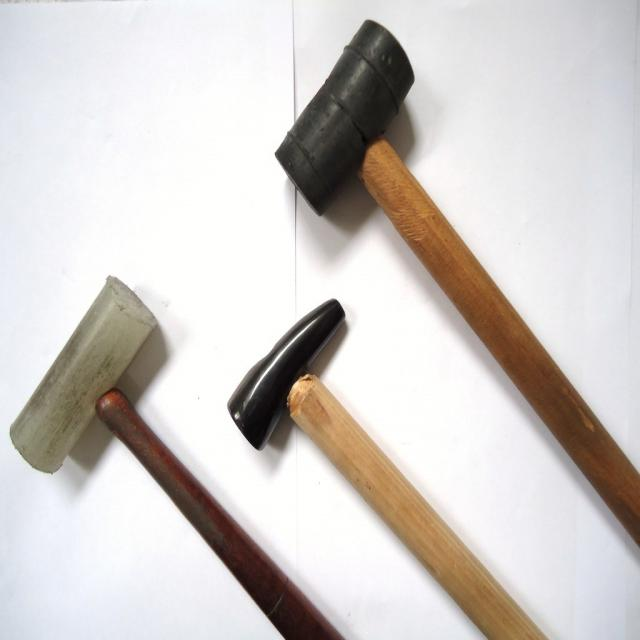hammer: (279, 18, 639, 544), (5, 276, 343, 639), (225, 294, 556, 640)
